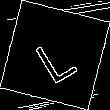L_NW: (29, 25, 81, 85)
